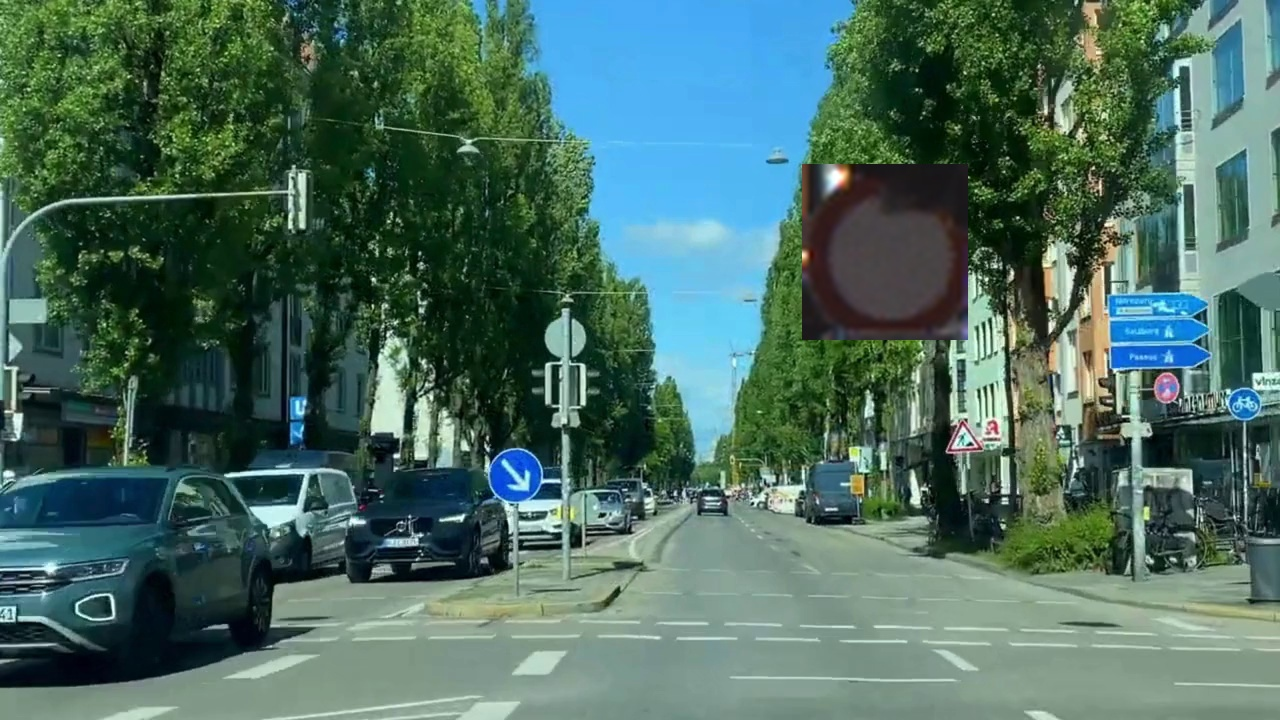No vehicles: (802, 164, 968, 340)
